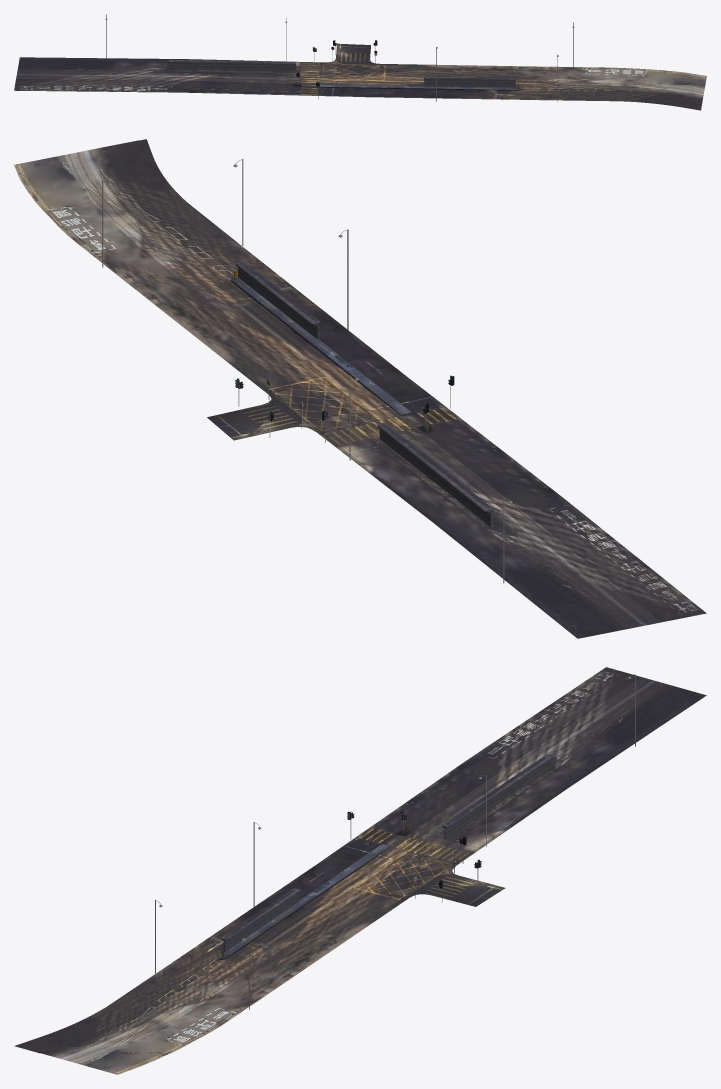
File: gilman-street.glb
The picture shows the model from 3 angles, top to bottom: view 1: azimuth 30°, elevation 25°; view 2: azimuth 150°, elevation 25°; view 3: azimuth 270°, elevation 25°; orthographic projection. The views are drawn at different scales.
Visible parts, largest first — view 1: gilman-street; view 2: gilman-street; view 3: gilman-street.
Boxes of the visible parts, left/top/right/bottom form: gilman-street: left=14, top=14, right=706, bottom=110; gilman-street: left=14, top=139, right=706, bottom=638; gilman-street: left=14, top=667, right=706, bottom=1074.
Size of the model in its own units: 133 by 13 by 95.97.
Materials: 8 (8 with a texture image).
